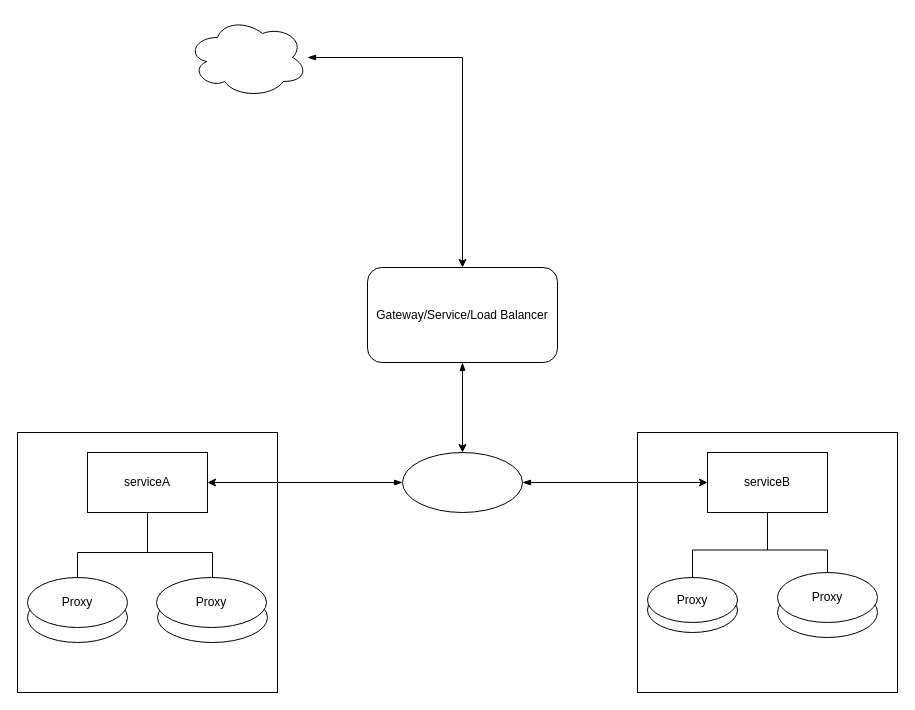
Image size: 915x710. Some labels were removed from this diagram. The centre of each missing label's shape, as x and y in pixels:
"Internet" goes at [247,57].
"POD istio" goes at [462,482].
